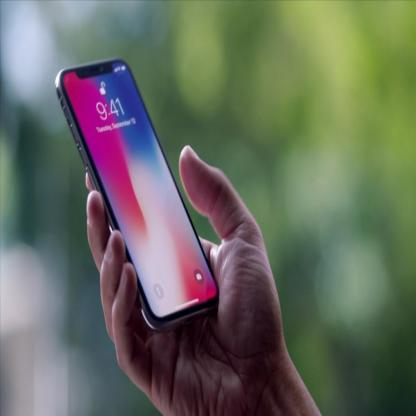smartphone: (55, 57, 220, 333)
